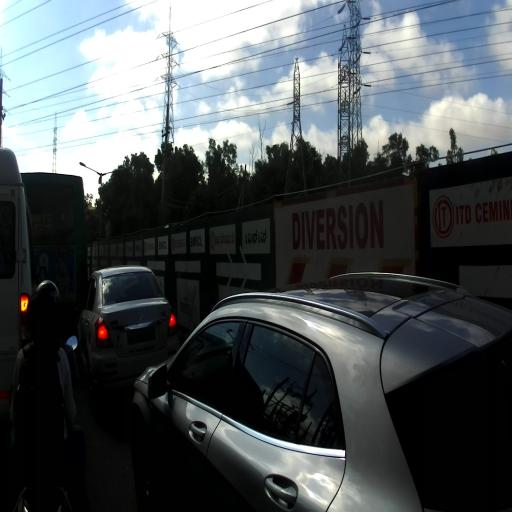street_light_0: (79, 162, 102, 184), (98, 168, 124, 185)
